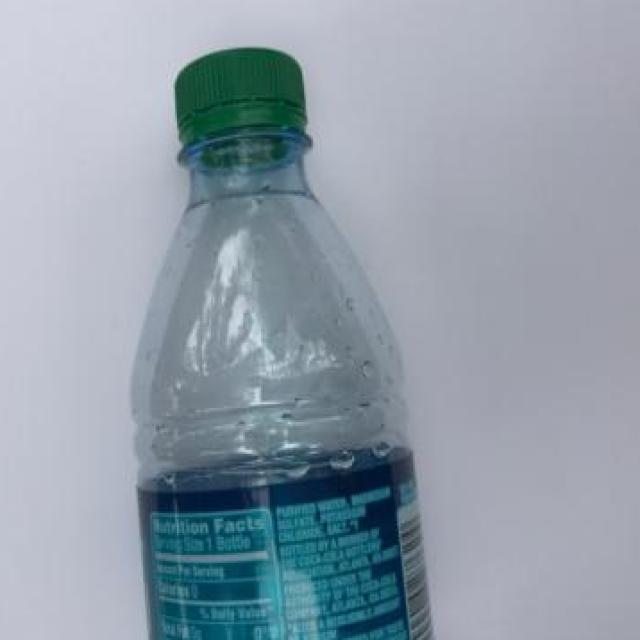organic: (103, 44, 475, 629)
